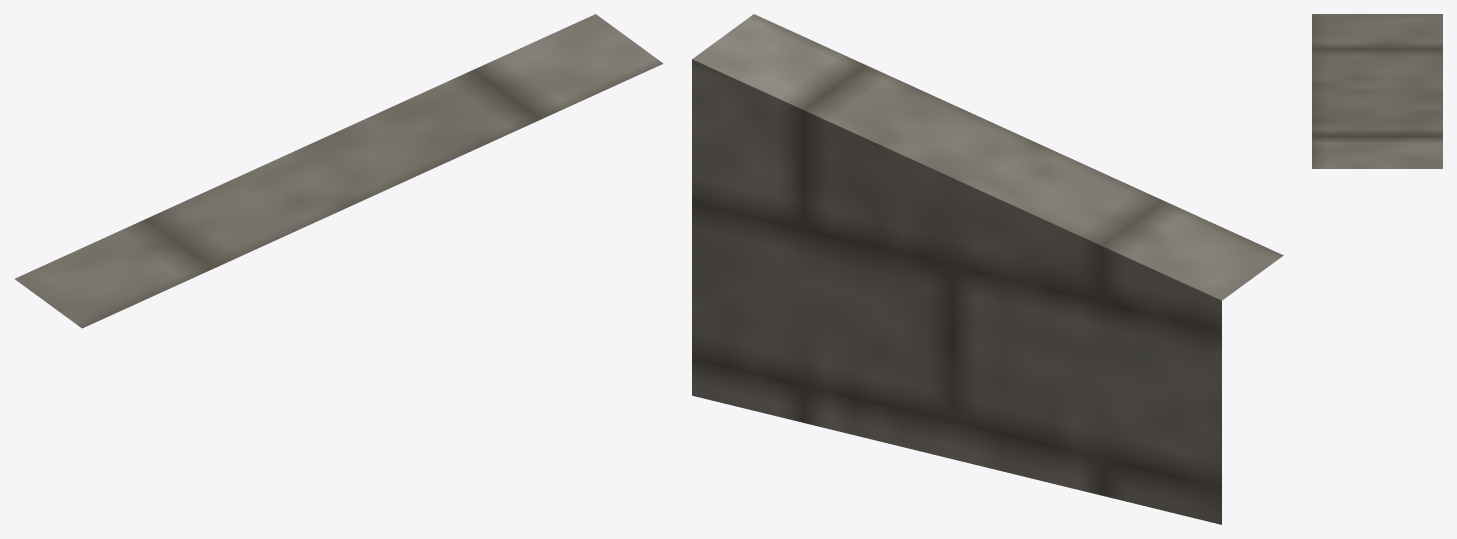
Rendered from tunel_silnicni_zed_2.glb.
3 views of the same model, side by side, from view 1: azimuth 30°, elevation 25°; view 2: azimuth 150°, elevation 25°; view 3: azimuth 270°, elevation 25° (orthographic). The views are drawn at different scales.
Visible parts, largest first — view 1: tunel_silnicni_zed_2; view 2: tunel_silnicni_zed_2; view 3: tunel_silnicni_zed_2.
Boxes of the visible parts, <box> form: tunel_silnicni_zed_2: <box>15,14,663,328</box>; tunel_silnicni_zed_2: <box>692,14,1283,524</box>; tunel_silnicni_zed_2: <box>1312,14,1442,168</box>.
Size of the model in its own units: 4.95 by 3 by 1.
Materials: 1 (1 with a texture image).
